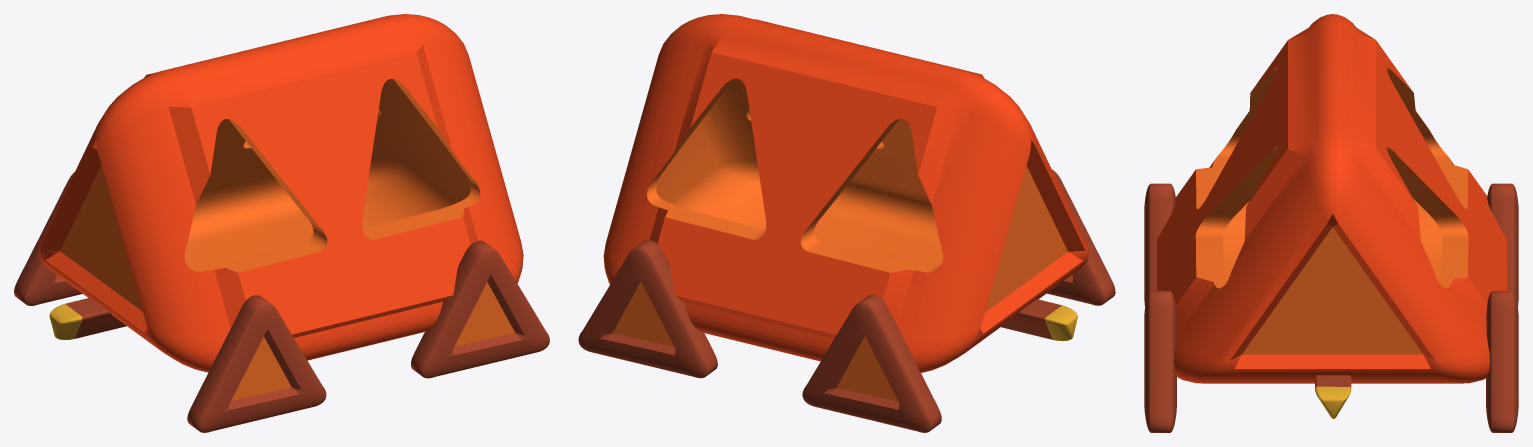
The model's file is wagon_triangle.glb.
3 renders of one model, left to right at view 1: azimuth 30°, elevation 25°; view 2: azimuth 150°, elevation 25°; view 3: azimuth 270°, elevation 25°, orthographic.
Parts seen in each view (by area): view 1: body, wheel_1, wheel_3, wheel_2, hook_back; view 2: body, wheel_2, wheel_4, wheel_1, hook_back; view 3: body, wheel_3, wheel_4, wheel_1, wheel_2, hook_front.
Boxes of the visible parts, bbox=[...] form: body: bbox=[38, 14, 523, 372]; wheel_1: bbox=[187, 295, 326, 432]; wheel_3: bbox=[411, 240, 549, 378]; wheel_2: bbox=[14, 172, 82, 305]; hook_back: bbox=[49, 297, 126, 339]; body: bbox=[603, 14, 1089, 372]; wheel_2: bbox=[802, 295, 941, 432]; wheel_4: bbox=[578, 240, 717, 378]; wheel_1: bbox=[1047, 169, 1115, 305]; hook_back: bbox=[1001, 299, 1077, 341]; body: bbox=[1157, 14, 1507, 383]; wheel_3: bbox=[1144, 291, 1176, 432]; wheel_4: bbox=[1486, 291, 1518, 432]; wheel_1: bbox=[1144, 183, 1175, 306]; wheel_2: bbox=[1487, 183, 1518, 306]; hook_front: bbox=[1315, 375, 1351, 418].
Bounding box in the file's own units: 68.24 × 40.49 × 49.79.
